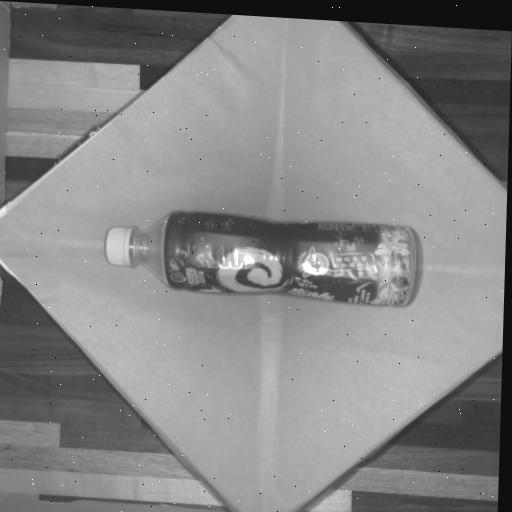bottle: (106, 213, 414, 305)
